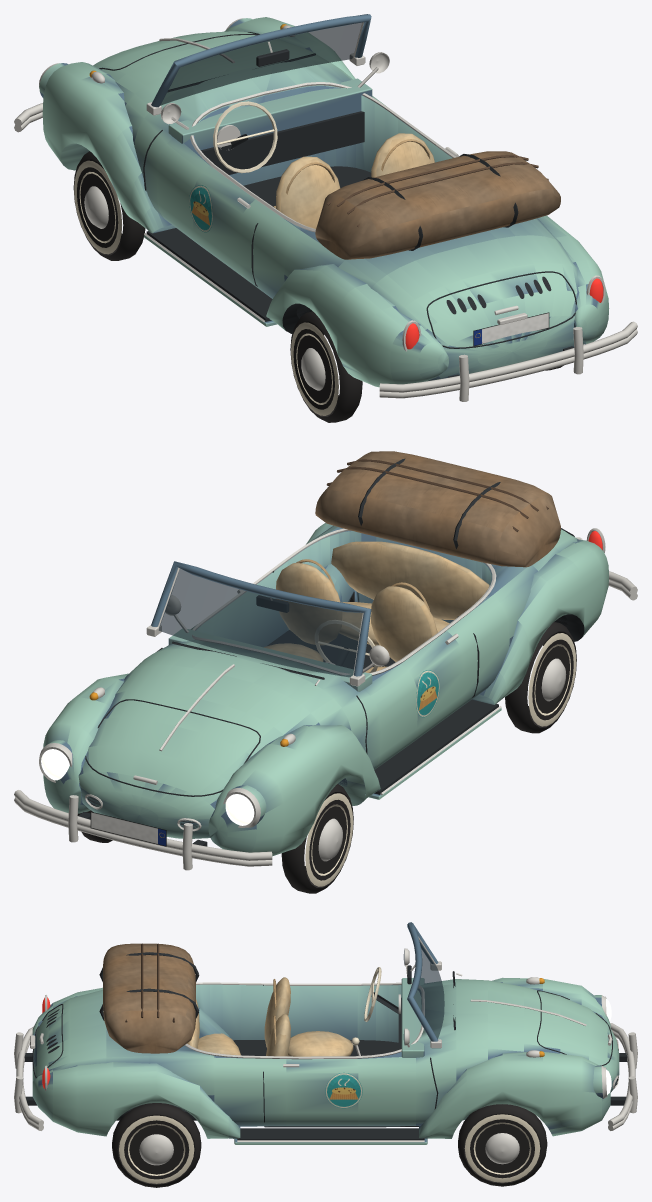
File: microcar.glb
3 views of the same model, one above another, from view 1: azimuth 30°, elevation 25°; view 2: azimuth 150°, elevation 25°; view 3: azimuth 270°, elevation 25° (orthographic). The views are drawn at different scales.
Visible parts, largest first — view 1: microcar; view 2: microcar; view 3: microcar.
Boxes of the visible parts, box(x1,y1,x2,y2) form: microcar: box(14, 14, 637, 422); microcar: box(14, 451, 637, 893); microcar: box(14, 922, 637, 1187).
Size of the model in its own units: 1.63 by 1.42 by 4.33.
Materials: 15 (5 with a texture image).
